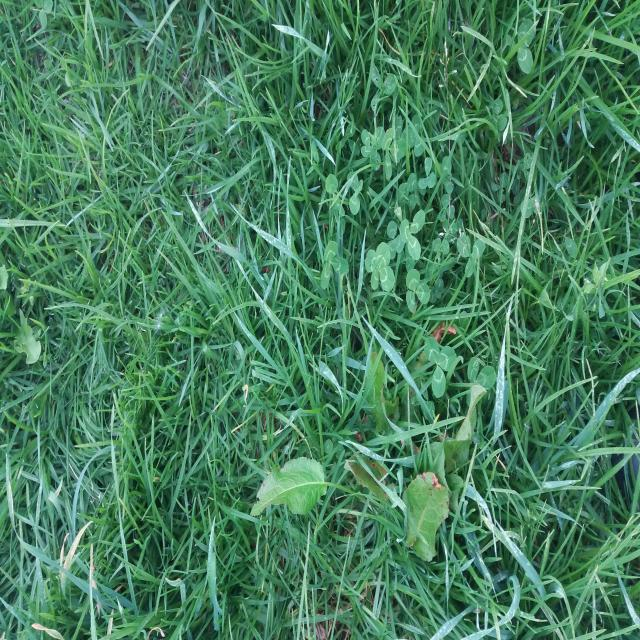Four Leaf Clover: (364, 241, 395, 292)
